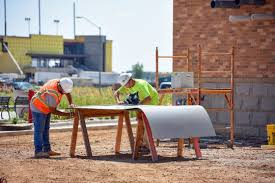hard hat: (60, 76, 73, 93), (119, 73, 133, 86)
high-vis: (119, 78, 158, 106), (31, 79, 63, 113)
